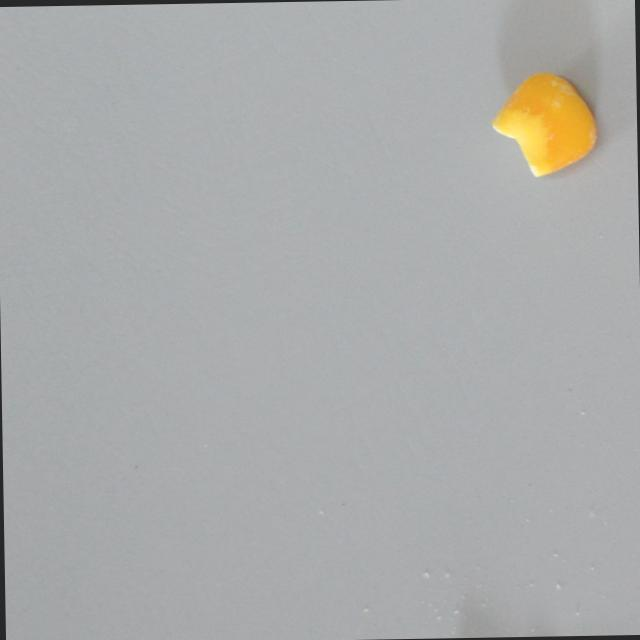no_canjicado: (491, 68, 598, 176)
